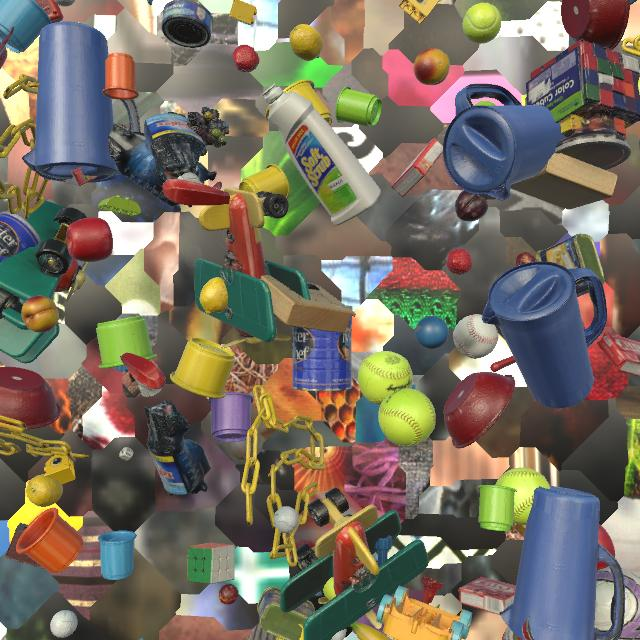ycb_002_master_chef_can: (292, 305, 353, 391), (0, 211, 41, 263)
ycb_005_tomato_soup_can: (503, 616, 534, 640), (582, 320, 585, 329)
ycb_007_tuna_fish_can: (161, 0, 213, 48)
ycb_009_gelatin_box: (391, 138, 443, 197), (458, 577, 516, 615), (597, 332, 640, 376), (65, 167, 99, 186)
ycb_010_potted_meat_can: (536, 234, 604, 297), (257, 586, 315, 640)
ycb_011_banana: (350, 622, 392, 640)
ycb_012_strawberry: (233, 44, 260, 72), (447, 248, 472, 275)
ycb_013_apple: (66, 217, 113, 262), (597, 524, 615, 571)
ycb_014_lemon: (289, 24, 323, 61), (26, 474, 63, 507), (200, 277, 228, 314)
ycb_015_peach: (21, 296, 59, 333), (414, 48, 450, 85)
ycb_018_plum: (455, 190, 488, 221), (639, 141, 640, 149)
